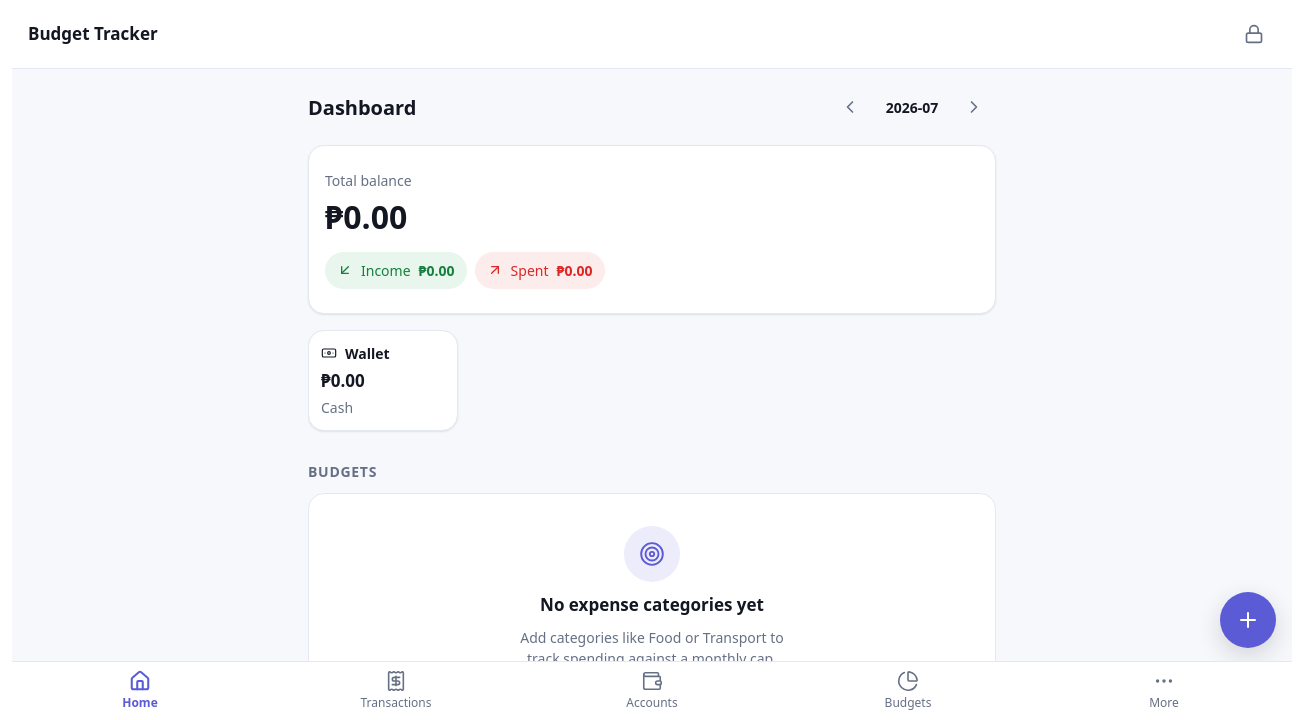
Test: RecurringScreen › deletes a rule after confirmation
This screenshot has width=1304, height=720.
expect the button named "Lock" is shown: met, box [1232,12,1276,56]
Step 1. Click the button "More" → [1164, 691], box [1036,662,1292,719]
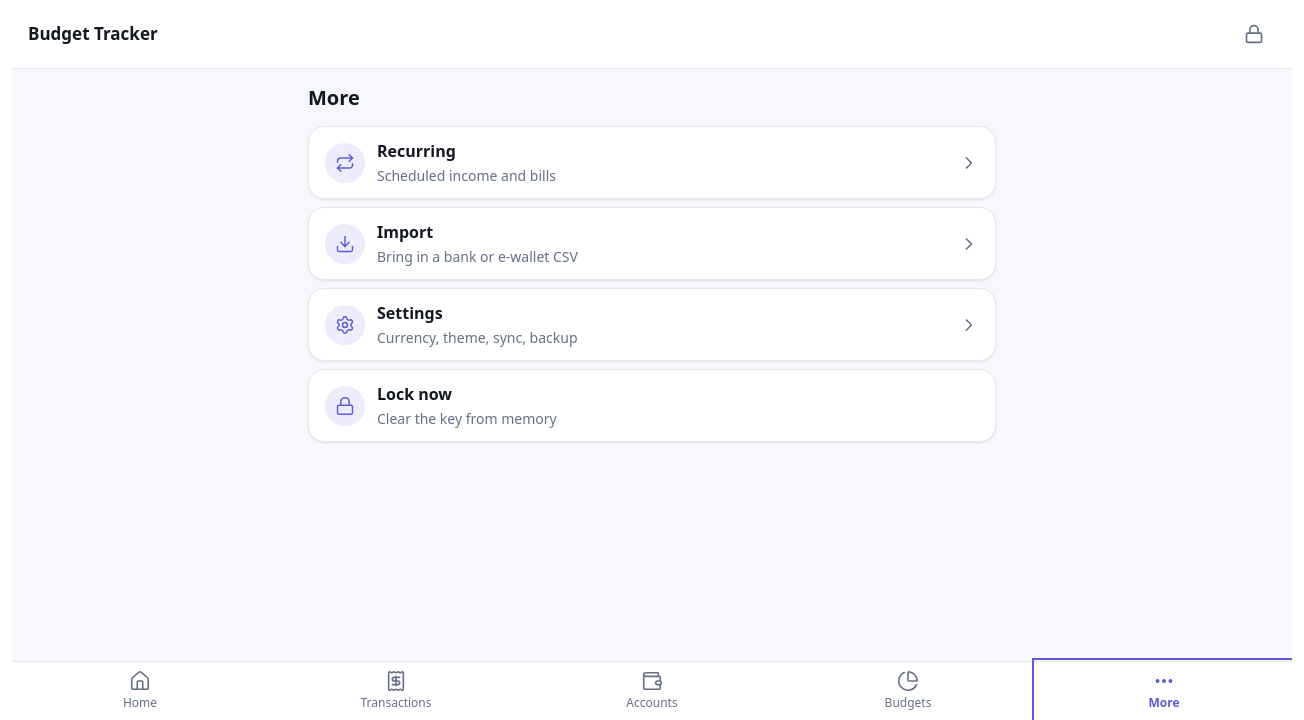
Step 2. Click the button "Recurring Scheduled income and bills" → [345, 162], box [308,126,996,199]
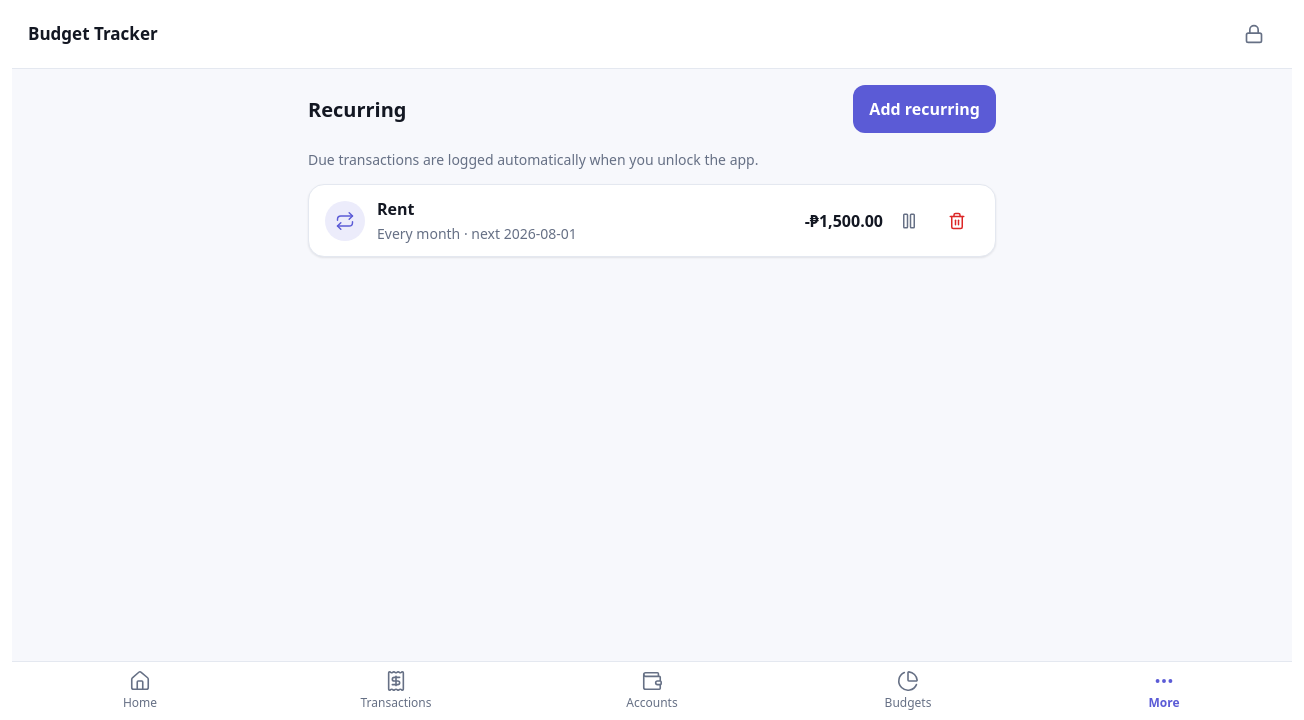
Step 3. Click the button named "Delete Rent" → [957, 220], box [935,198,979,242]
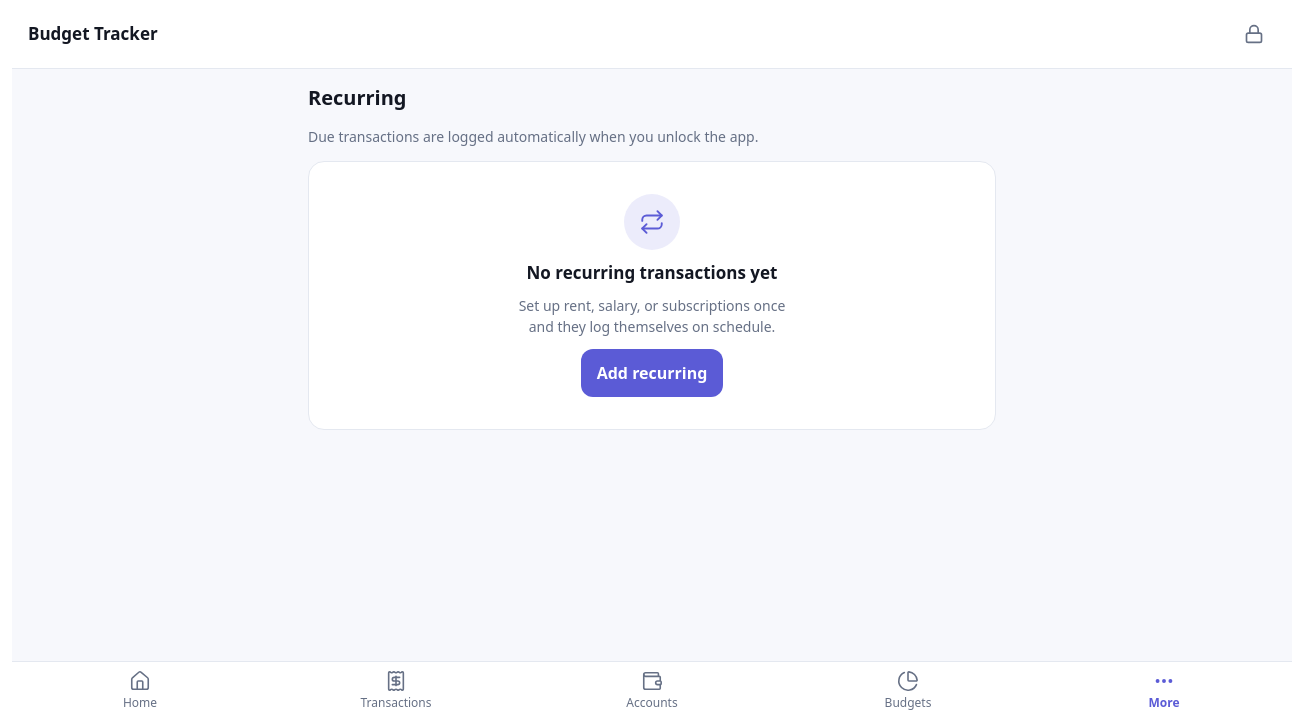
expect the heading "No recurring transactions yet" is shown: met, box [526,262,777,283]
